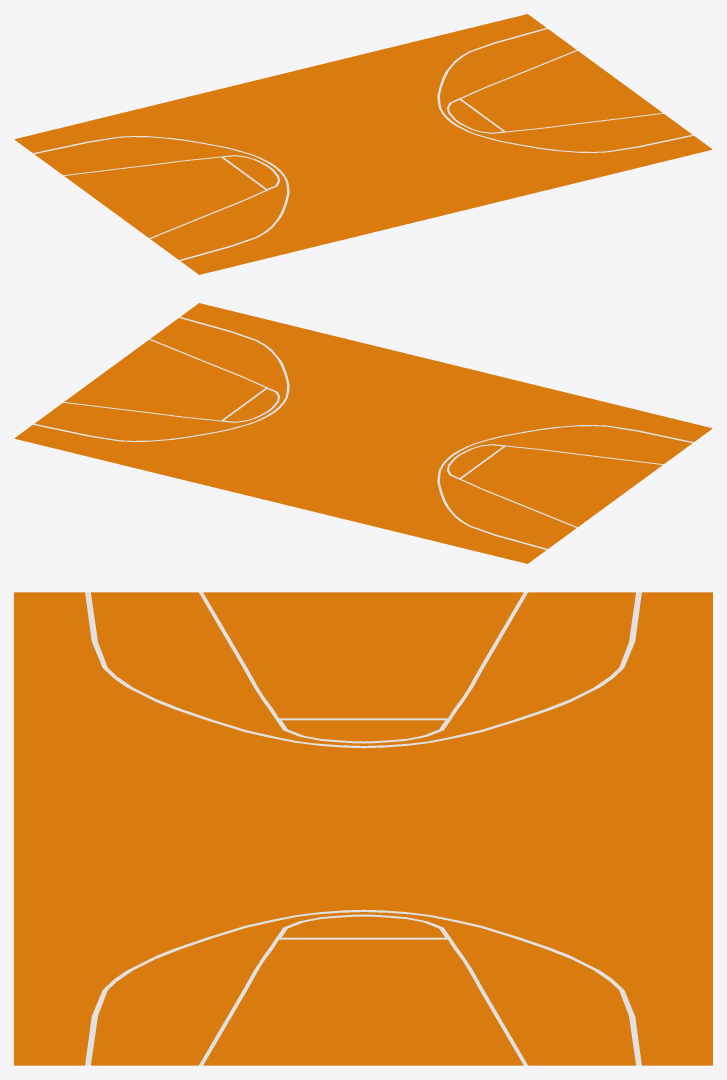
The model's file is saha.obj.
The picture shows the model from 3 angles, top to bottom: view 1: azimuth 30°, elevation 25°; view 2: azimuth 150°, elevation 25°; view 3: azimuth 270°, elevation 25°; orthographic projection. The views are drawn at different scales.
Visible parts, largest first — view 1: Plane; view 2: Plane; view 3: Plane.
Boxes of the visible parts, left/top/right/bottom form: Plane: left=14, top=14, right=712, bottom=274; Plane: left=14, top=303, right=712, bottom=563; Plane: left=14, top=592, right=712, bottom=1065.
Bounding box in the file's own units: 31.38 × 0 × 19.6.
